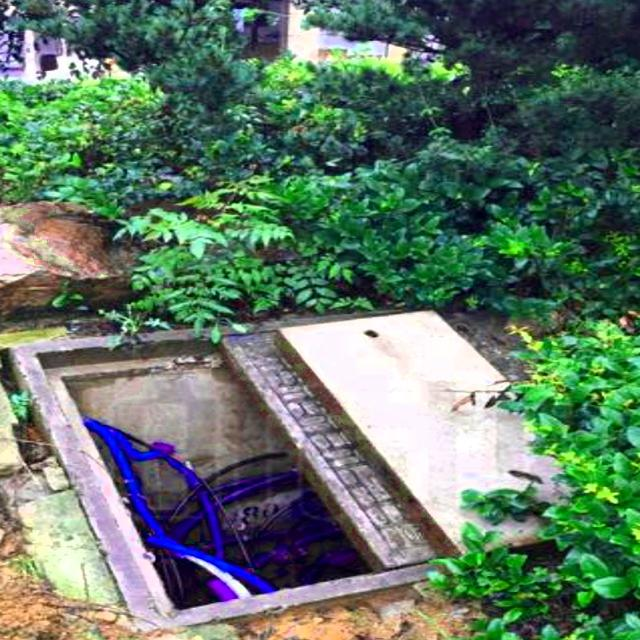uncovered: (0, 311, 576, 629)
